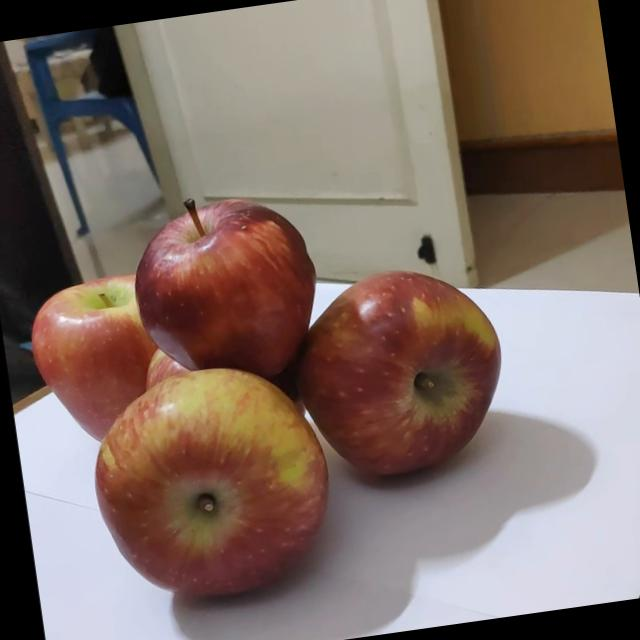apple: (255, 239, 520, 516), (87, 383, 298, 601), (104, 187, 309, 396), (0, 250, 183, 438)
